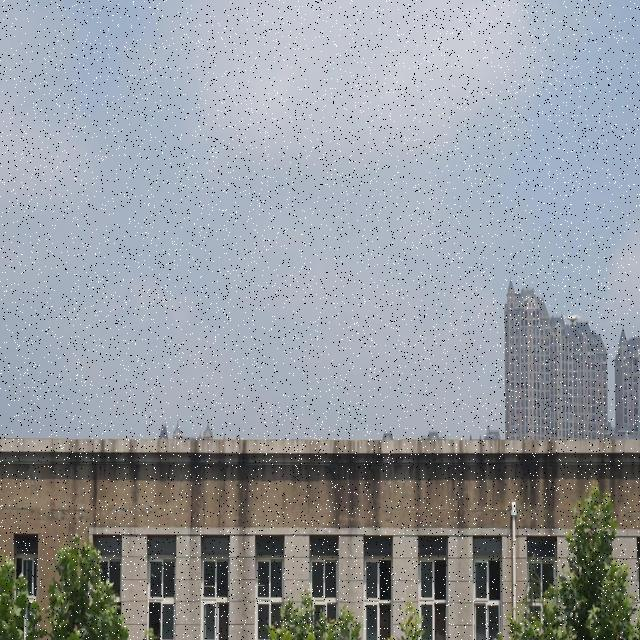UAV: (564, 314, 582, 327)
